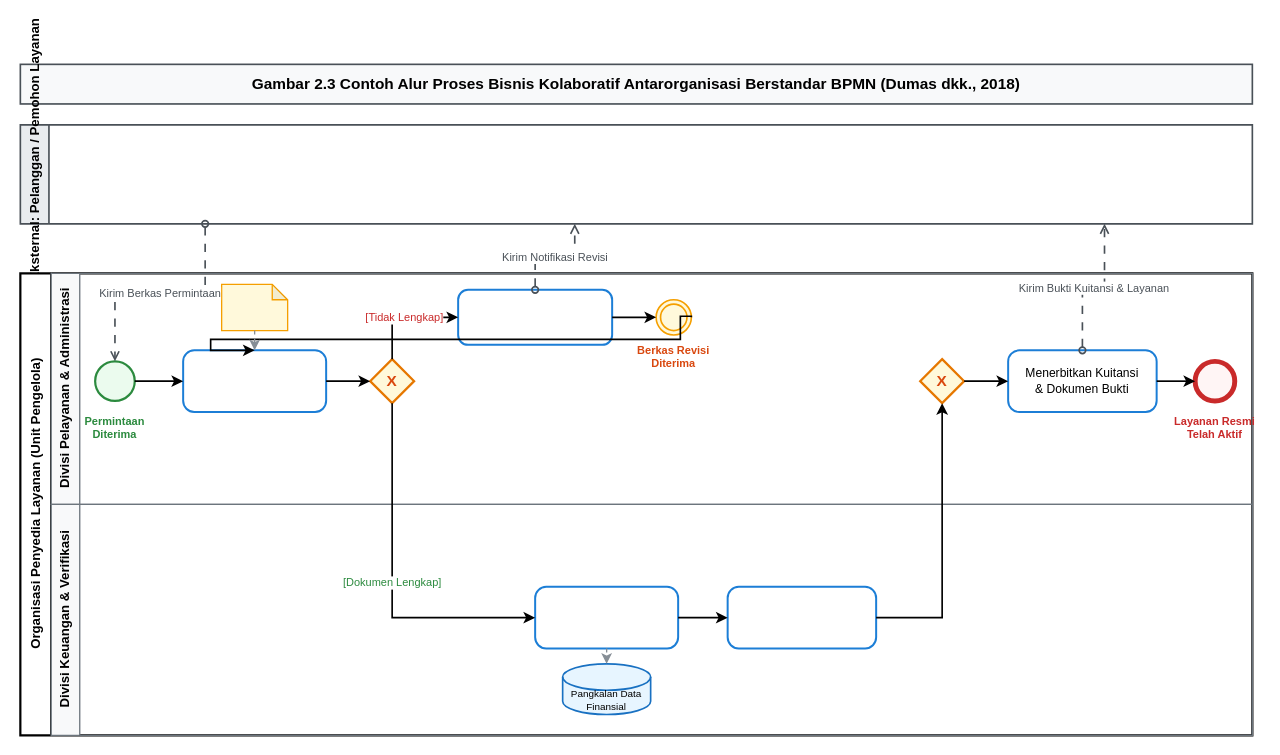
Some shapes in this 1280 by 755 pixel diagram are drawn without their labels. The shapes that lost their labels are listed below. From the top down, each one's centre as x and y in pixels, then its label:
pixel 254 307: Formulir Permintaan
pixel 535 316: Mengirimkan Notifikasi Perbaikan Berkas
pixel 254 380: Memverifikasi Kelayakan Dokumen
pixel 606 617: Menghitung Biaya & Validasi Tagihan
pixel 801 617: Membukukan Transaksi ke Buku Rekening
